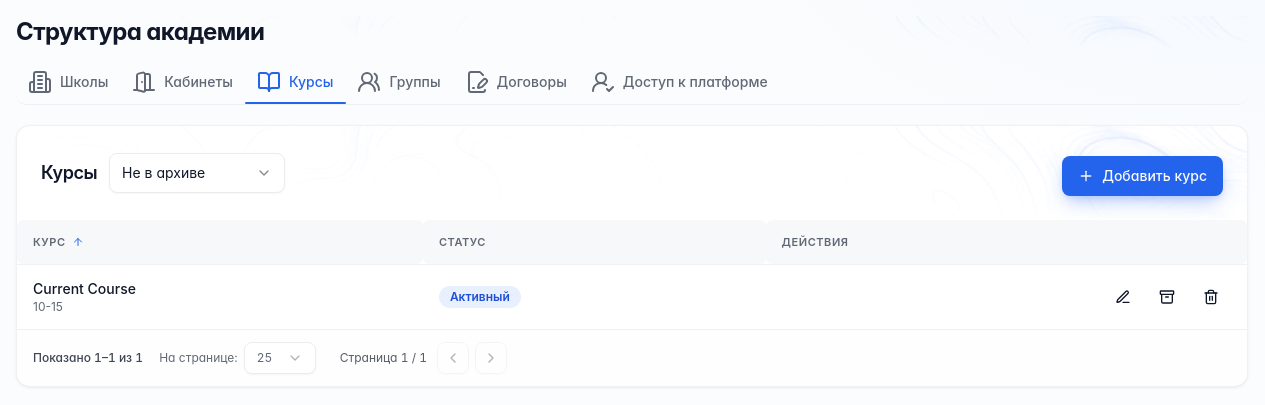
Test: navigates between current and archived courses with the dropdown
expect the text "Current Course" is shown: met, box [33, 280, 136, 296]
expect the text "Past Course" is not shown: met
Click the dropdown named "Раздел списка" at (197, 173), box [109, 153, 285, 193]
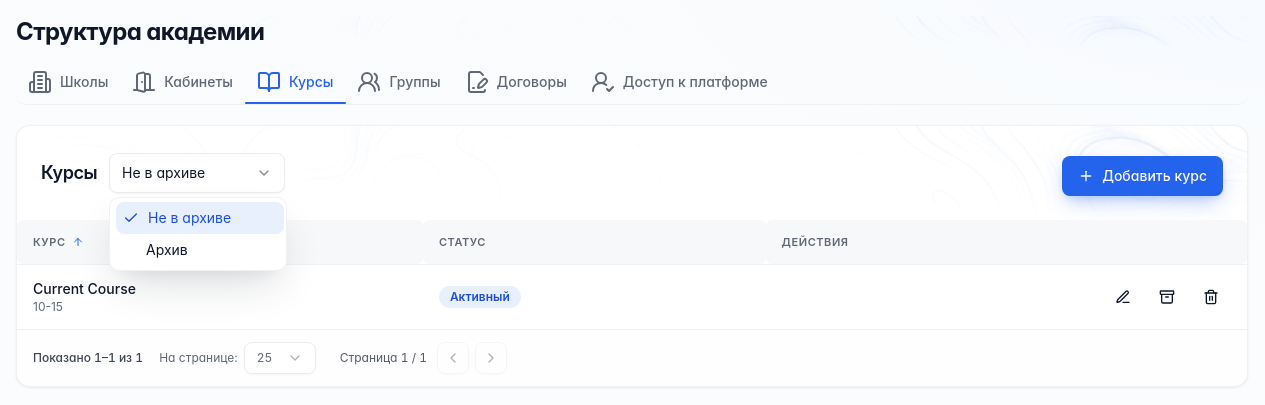
Click the option "Архив" at (167, 250), box [146, 241, 188, 258]
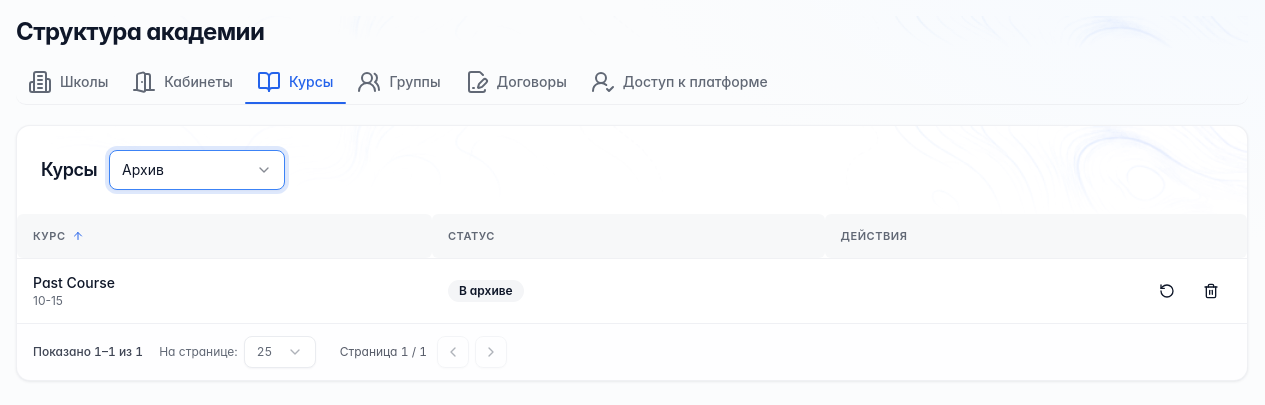
expect the text "Past Course" is shown: met, box [33, 274, 115, 290]
expect the text "Current Course" is gone: met
Click the dropdown named "Раздел списка" at (197, 170), box [109, 150, 285, 190]
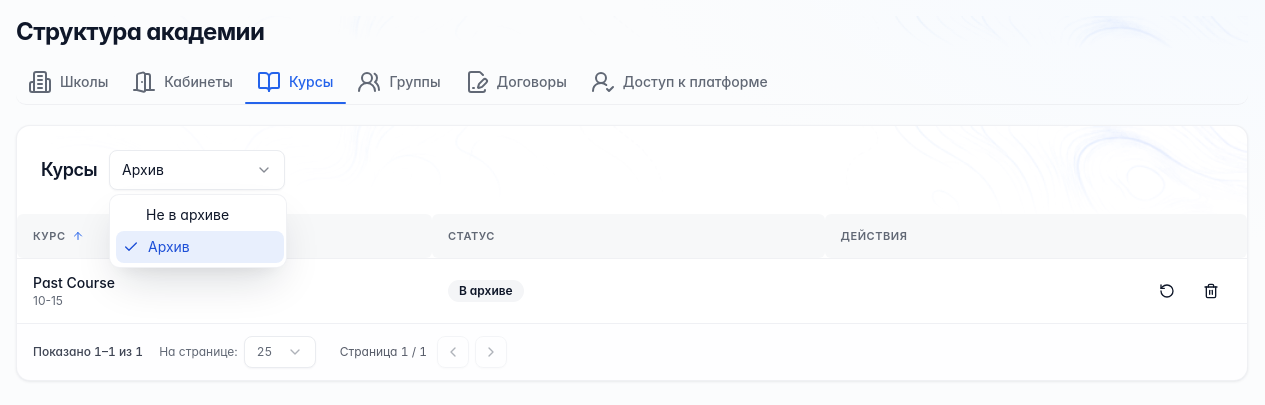
Click the option "Не в архиве" at (188, 214), box [146, 206, 229, 223]
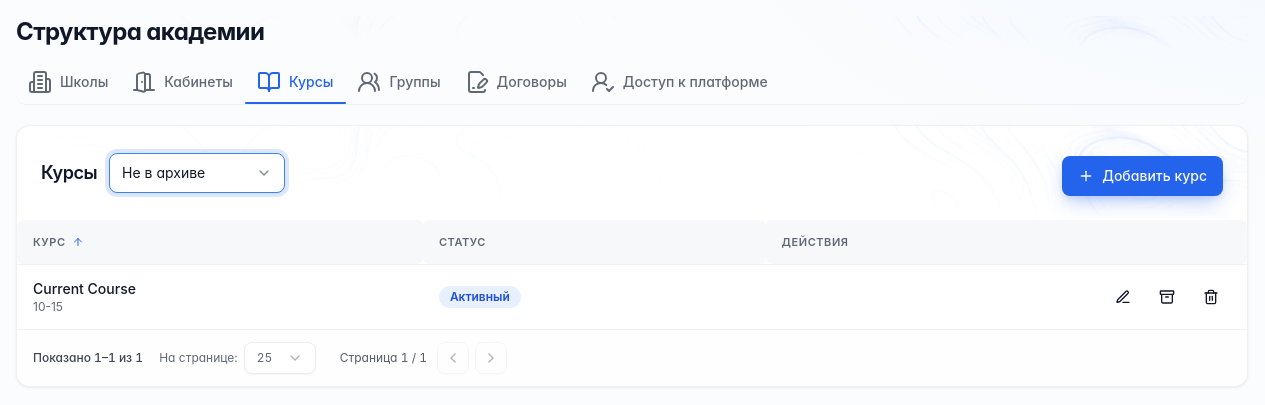
expect the text "Current Course" is shown: met, box [33, 280, 136, 296]
